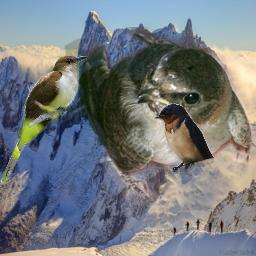Cuckoo: (0, 54, 88, 184)
Swallow: (53, 27, 256, 209), (154, 103, 214, 172)
